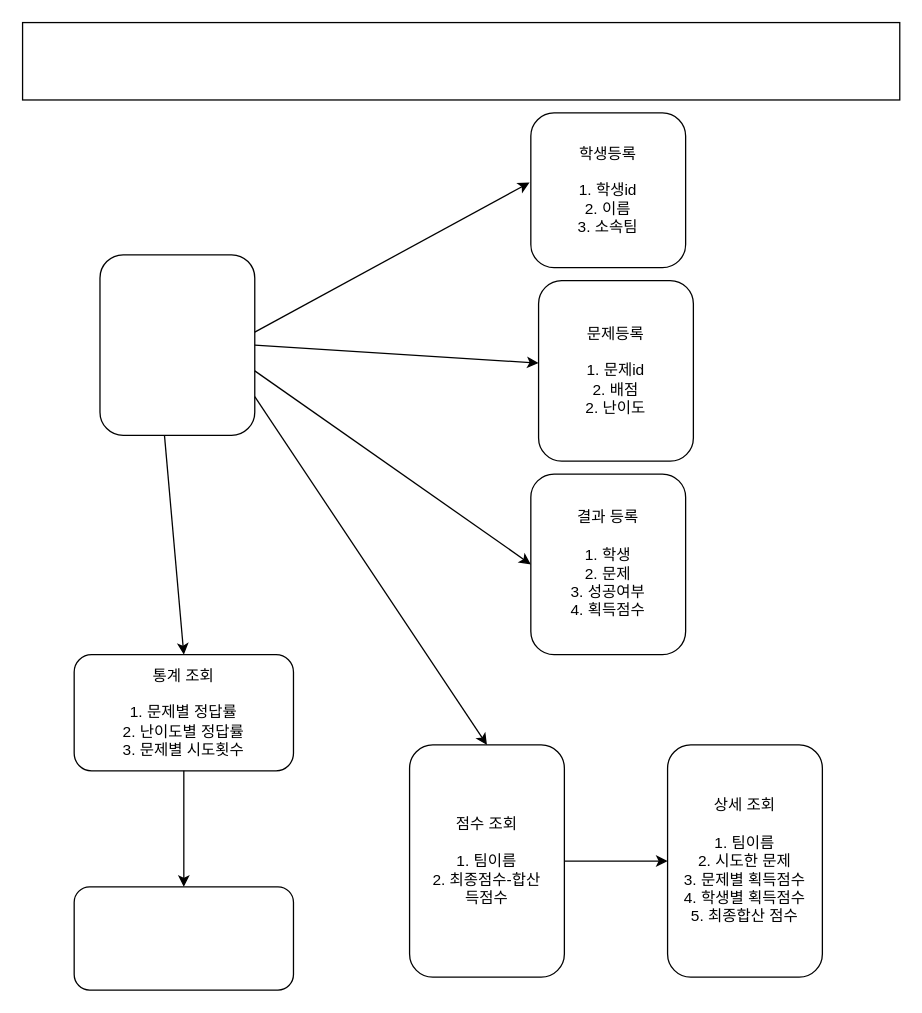
Some shapes in this 922 by 1013 pixel diagram are drawn without their labels. Each missing label, with the box of its shape:
메뉴 1. 학생등록 2. 문제등록 3. 결과등록 4. 점수조회 5. 통계 조회: (99, 253, 255, 435)
자바 페스티벌 문제 관리 프로그램: (21, 21, 900, 100)
통계 UI 1. 콘솔 그래프 그리기: (73, 886, 293, 990)
